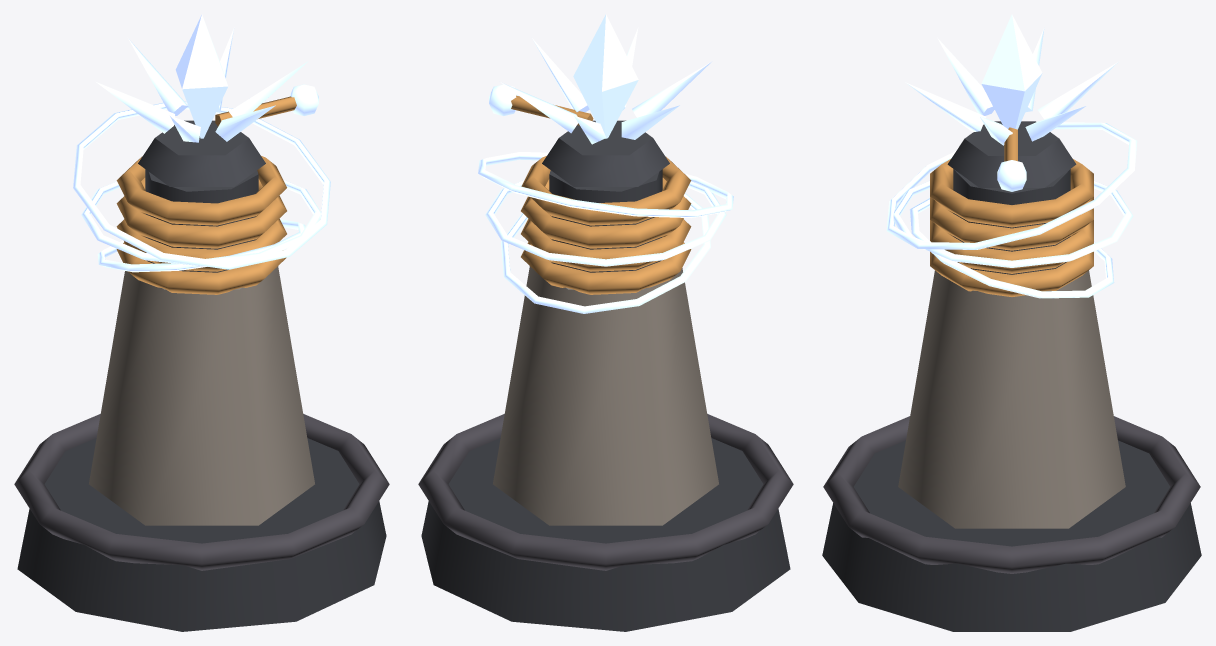
File: tower_chain_storm.glb
3 renders of one model, left to right at view 1: azimuth 30°, elevation 25°; view 2: azimuth 150°, elevation 25°; view 3: azimuth 270°, elevation 25°, orthographic.
Parts seen in each view (by area): view 1: shaft, base, base_rim, cap, antenna_ring_2, coil_3, coil_2, crystal_core, coil_0, coil_core, antenna_ring_1, coil_1 (+7 smaller); view 2: shaft, base, base_rim, cap, crystal_core, coil_2, coil_0, coil_3, antenna_ring_2, coil_1, antenna_ring_1, antenna_ring_0 (+7 smaller); view 3: shaft, base, base_rim, cap, coil_3, crystal_core, antenna_ring_2, coil_2, coil_0, antenna_ring_1, coil_1, coil_core (+6 smaller).
Boxes of the visible parts, bbox=[...] form: shaft: bbox=[89, 260, 314, 525]; base: bbox=[17, 438, 386, 631]; base_rim: bbox=[14, 414, 389, 570]; cap: bbox=[138, 120, 265, 186]; antenna_ring_2: bbox=[73, 101, 330, 269]; coil_3: bbox=[116, 156, 286, 225]; coil_2: bbox=[116, 178, 286, 248]; crystal_core: bbox=[175, 14, 228, 138]; coil_0: bbox=[116, 242, 286, 294]; coil_core: bbox=[145, 169, 258, 272]; antenna_ring_1: bbox=[81, 179, 320, 266]; coil_1: bbox=[116, 219, 286, 271]; shaft: bbox=[493, 260, 718, 525]; base: bbox=[421, 438, 790, 631]; base_rim: bbox=[418, 414, 793, 570]; cap: bbox=[542, 120, 669, 186]; crystal_core: bbox=[573, 14, 638, 138]; coil_2: bbox=[521, 178, 691, 248]; coil_0: bbox=[521, 242, 691, 294]; coil_3: bbox=[521, 156, 691, 225]; antenna_ring_2: bbox=[478, 152, 733, 218]; coil_1: bbox=[521, 219, 691, 271]; antenna_ring_1: bbox=[485, 179, 726, 266]; antenna_ring_0: bbox=[501, 193, 710, 313]; shaft: bbox=[898, 270, 1125, 528]; base: bbox=[822, 440, 1201, 631]; base_rim: bbox=[823, 416, 1200, 573]; cap: bbox=[947, 121, 1076, 187]; coil_3: bbox=[930, 159, 1093, 227]; crystal_core: bbox=[981, 14, 1042, 129]; antenna_ring_2: bbox=[886, 122, 1137, 249]; coil_2: bbox=[930, 197, 1093, 250]; coil_0: bbox=[930, 243, 1093, 296]; antenna_ring_1: bbox=[893, 180, 1133, 267]; coil_1: bbox=[930, 220, 1093, 273]; coil_core: bbox=[953, 169, 1070, 274].
Size of the model in its own units: 0.398 by 0.63 by 0.4.
